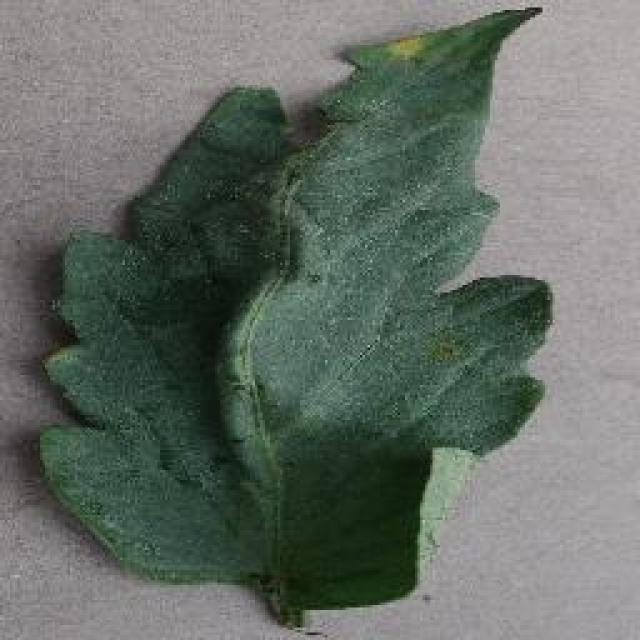Tomato bacterial spot leaf: (41, 13, 556, 625)
